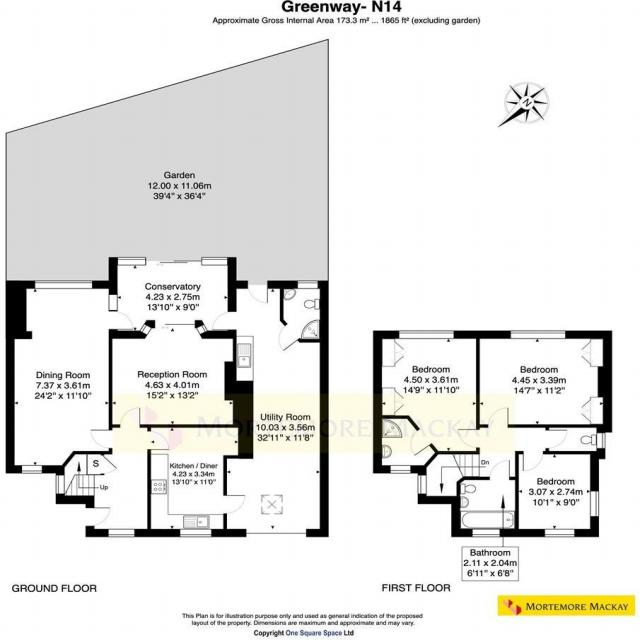DOOR: (409, 427, 433, 457), (278, 323, 301, 352), (85, 506, 111, 527), (247, 280, 269, 304), (487, 406, 509, 428), (457, 428, 480, 449), (488, 459, 511, 480), (223, 494, 246, 515), (89, 429, 113, 449), (522, 451, 544, 472), (119, 407, 141, 428), (545, 429, 568, 449), (147, 431, 170, 450)
ROOM: (5, 280, 135, 474), (108, 320, 253, 428), (476, 330, 613, 433), (372, 330, 480, 457), (147, 424, 253, 537), (514, 451, 606, 537)
WINDOW: (398, 330, 455, 340), (34, 280, 93, 289), (510, 330, 566, 339), (179, 528, 212, 538), (471, 528, 501, 538), (107, 528, 136, 538), (544, 528, 575, 537), (589, 491, 599, 517), (417, 474, 427, 495), (55, 474, 65, 495), (389, 465, 411, 474), (296, 280, 318, 289), (21, 465, 43, 474), (108, 294, 119, 311), (596, 432, 606, 449), (139, 323, 152, 336), (196, 324, 208, 336)
